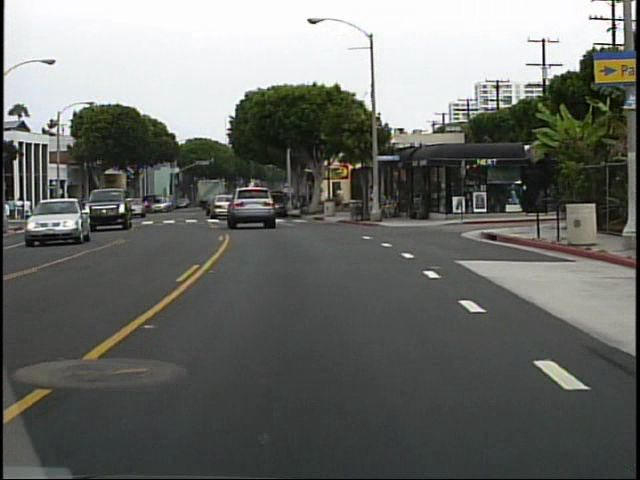person: (361, 186, 378, 219)
